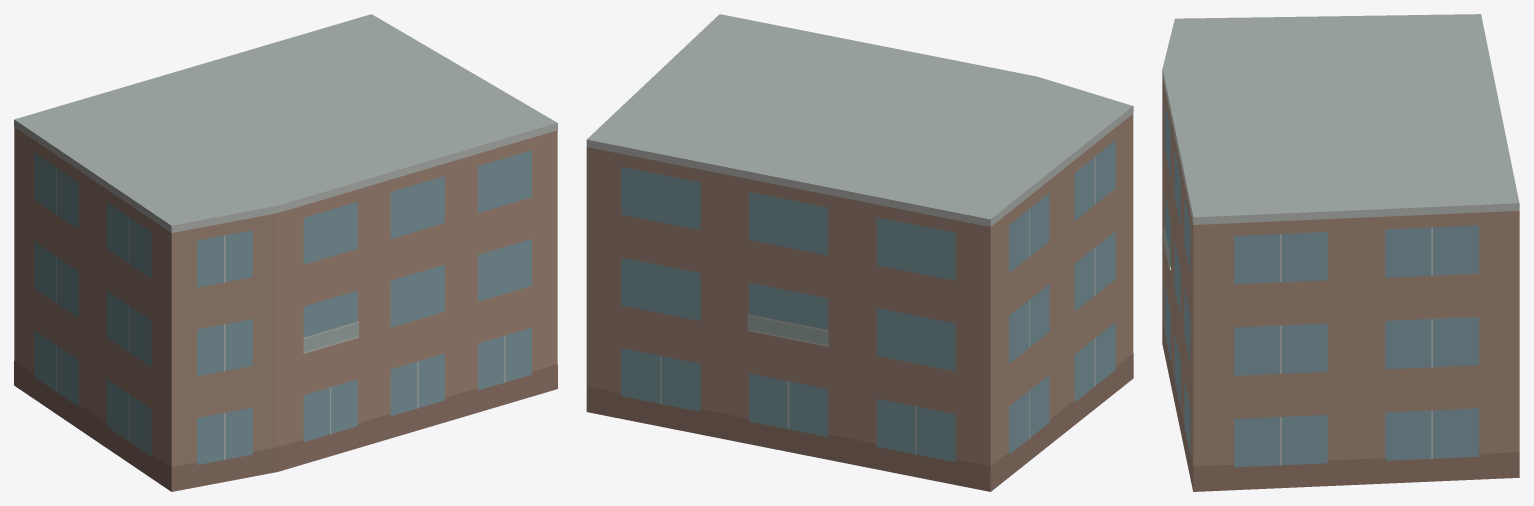
The model's file is survey-upis-32937597.glb.
3 views of the same model, side by side, from view 1: azimuth 30°, elevation 25°; view 2: azimuth 150°, elevation 25°; view 3: azimuth 270°, elevation 25° (orthographic). The views are drawn at different scales.
Visible parts, largest first — view 1: survey-upis-32937597.tmp; view 2: survey-upis-32937597.tmp; view 3: survey-upis-32937597.tmp.
Part boxes in pixels (<box>): survey-upis-32937597.tmp: <box>14,14,557,491</box>; survey-upis-32937597.tmp: <box>586,14,1133,491</box>; survey-upis-32937597.tmp: <box>1162,14,1519,491</box>.
Bounding box in the file's own units: 14.16 × 8.9 × 10.51.
